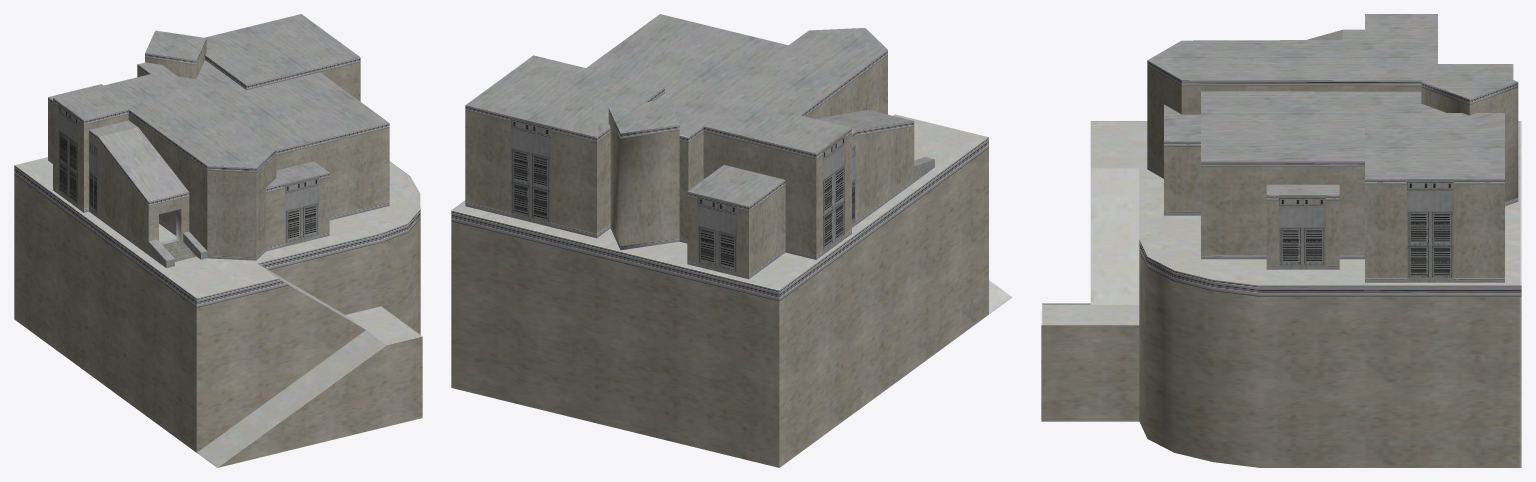
Rendered from ply_all_house_lg_s02_fp1_r0_mesh_l3.fbx.
The picture shows the model from 3 angles, left to right: view 1: azimuth 30°, elevation 25°; view 2: azimuth 150°, elevation 25°; view 3: azimuth 270°, elevation 25°; orthographic projection. The views are drawn at different scales.
Parts seen in each view (by area): view 1: mesh_node; view 2: mesh_node; view 3: mesh_node.
Boxes of the visible parts, x1,y1,x2,y2 form: mesh_node: [14, 14, 422, 467]; mesh_node: [451, 14, 1012, 467]; mesh_node: [1041, 14, 1521, 467].
Bounding box in the file's own units: 31.97 × 27.36 × 39.4.
